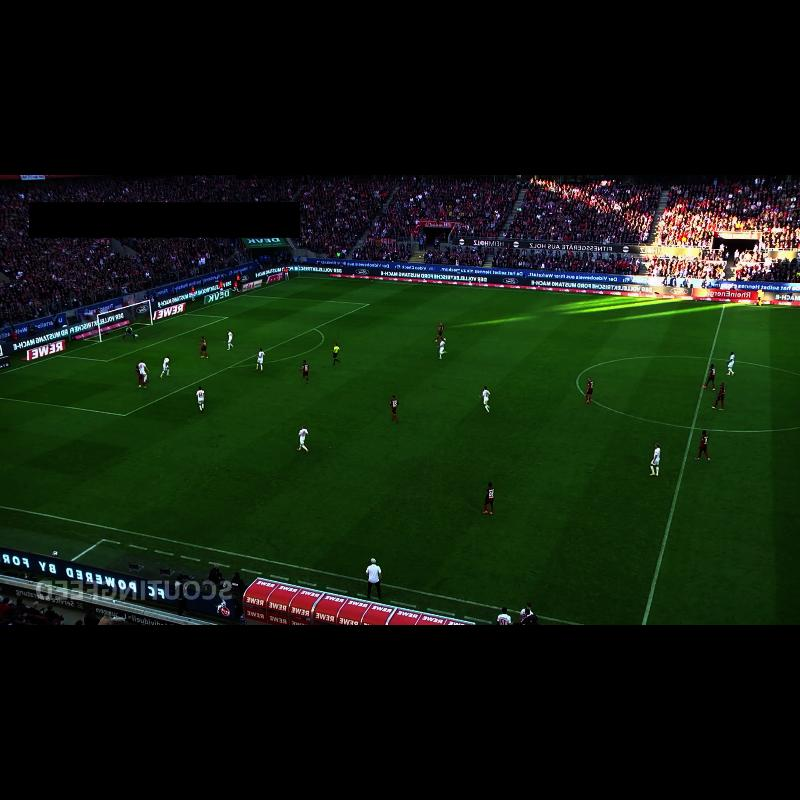cross_recipient_zone: (0, 295, 370, 415)
crossing_player_zone: (0, 397, 263, 529), (244, 277, 501, 310)
pitch: (0, 277, 800, 625)
